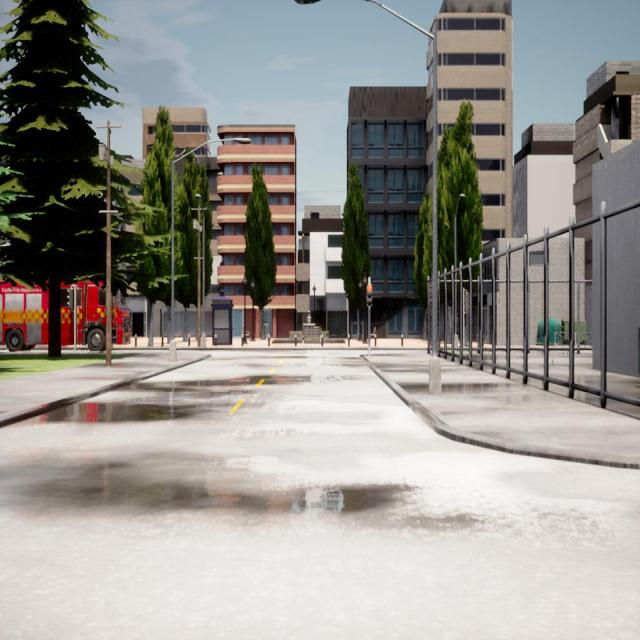Vehicle: (0, 282, 133, 352)
traffic_light: (366, 284, 373, 308), (464, 293, 470, 311)
